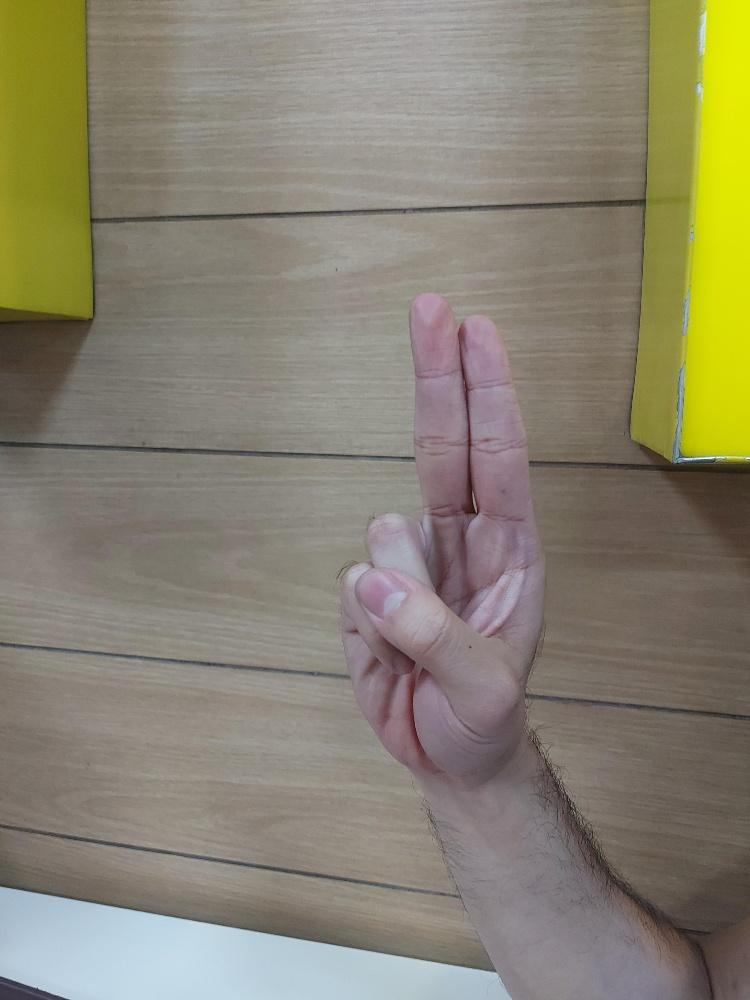u: (338, 291, 546, 788)
